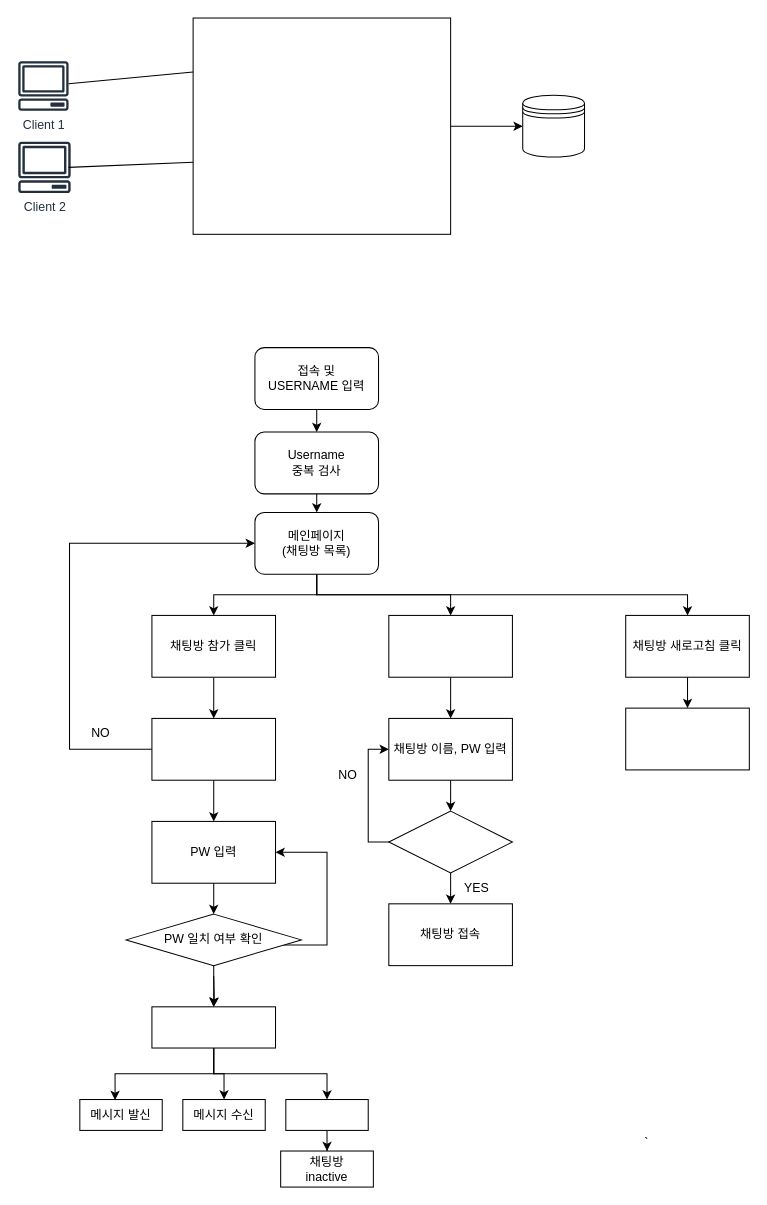
Image size: 767x1205. Some labels were removed from this diagram. Each missing label, with the centre of its shape:
"H2" goes at (553,125).
"나가기" goes at (326,1114).
"비어있는지 확인" goes at (213,748).
"이름 중복검사" goes at (450,841).
"채팅방 activate (대화가능상태)" goes at (213,1027).
"채팅방 목록 최신화" goes at (687,738).
"채팅방 생성 클릭" goes at (450,645).
